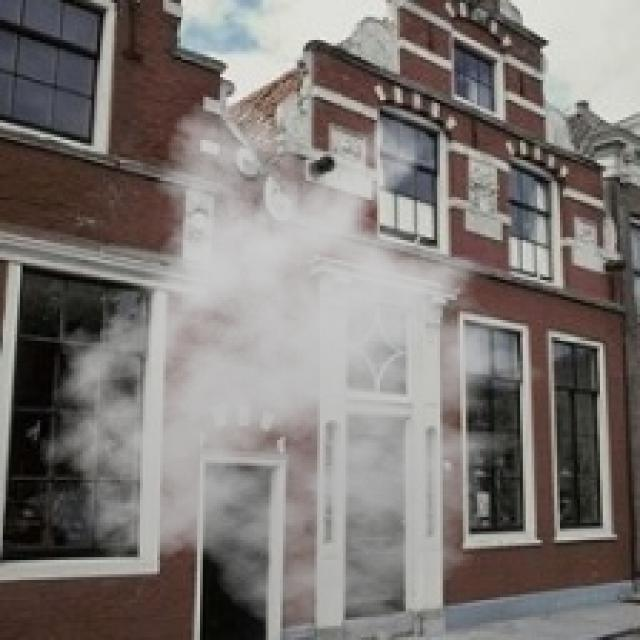smoke: (26, 97, 568, 634)
